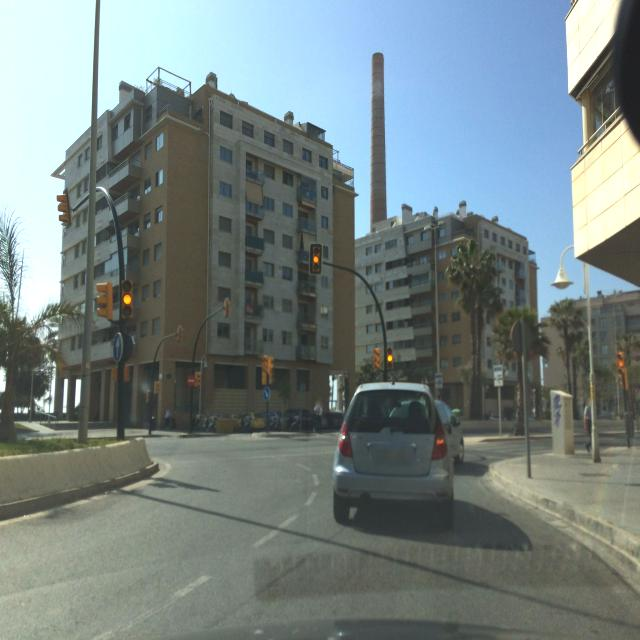car: (332, 381, 455, 527), (433, 399, 464, 466), (282, 408, 314, 430), (252, 411, 280, 431), (325, 410, 346, 430)
